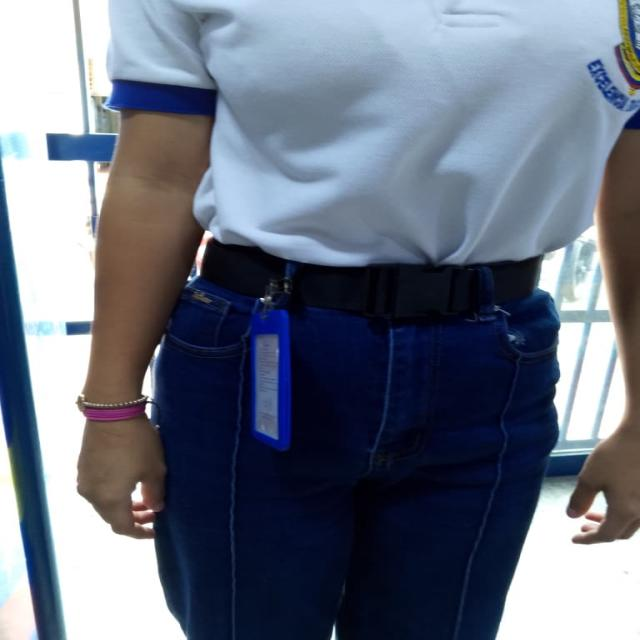carnet: (247, 309, 291, 448)
pantalon_oscuro: (157, 276, 565, 640)
uniforme_superior: (105, 3, 639, 267)
